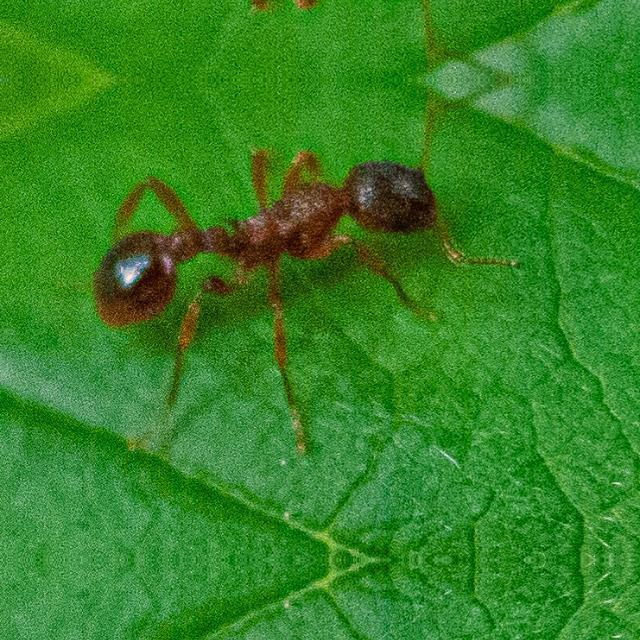Myrmica: (94, 130, 492, 346)
